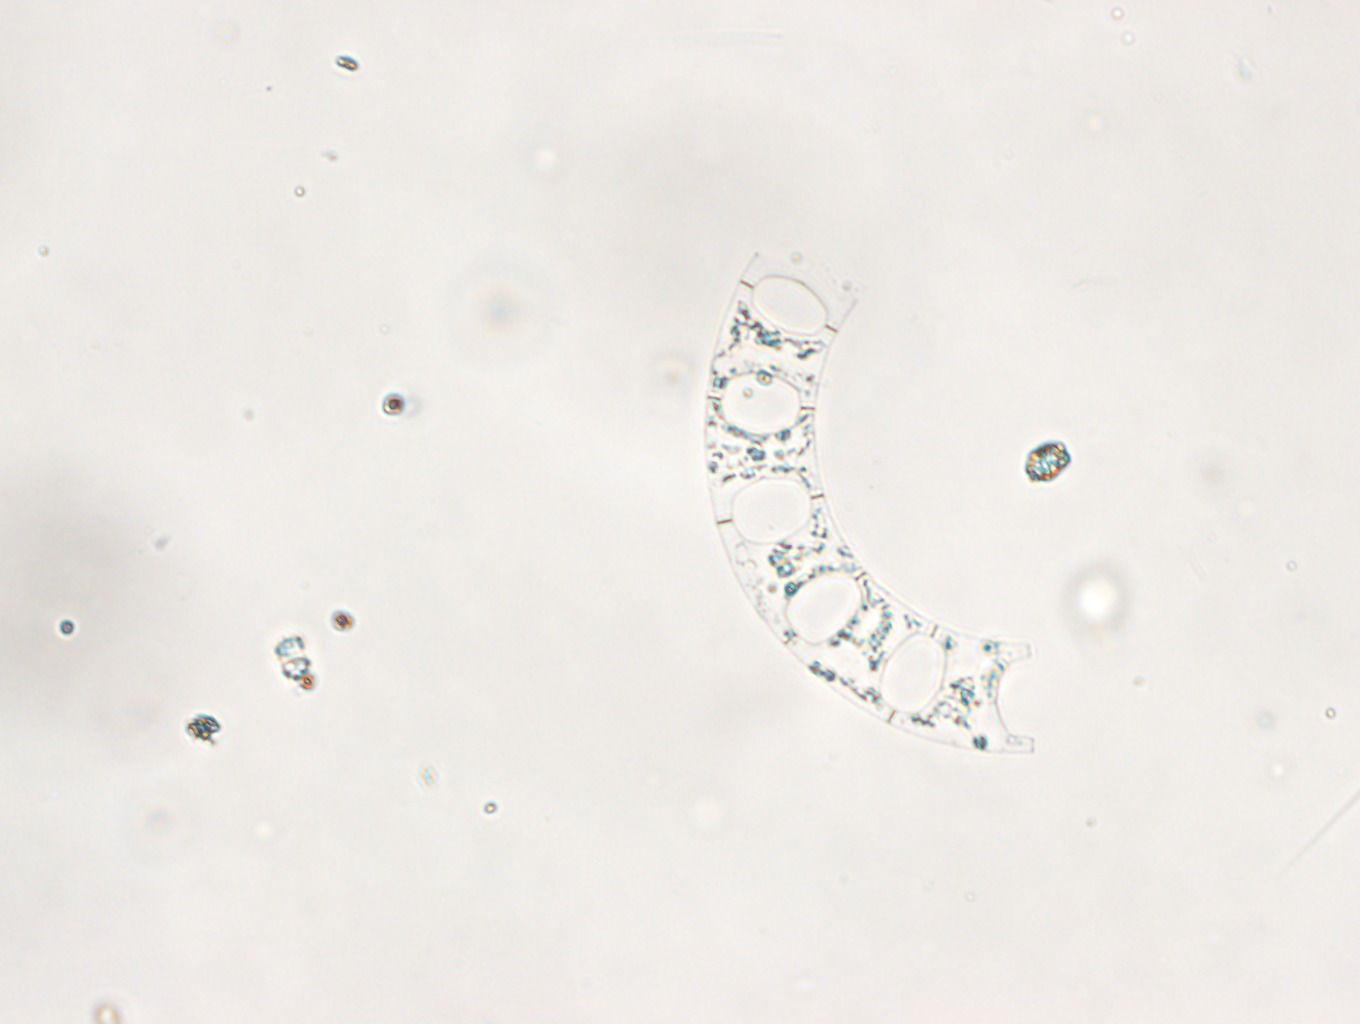eucampia: (701, 245, 1044, 756)
